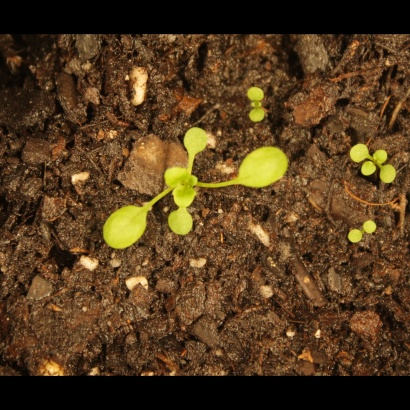leaf: (233, 144, 293, 194), (96, 206, 150, 251), (166, 204, 200, 241), (179, 123, 214, 156), (158, 164, 194, 191), (379, 165, 410, 192), (165, 187, 197, 213), (371, 139, 398, 166), (343, 139, 370, 164), (351, 161, 377, 186), (342, 230, 365, 253), (362, 210, 385, 233), (243, 106, 266, 129), (243, 83, 266, 106)
